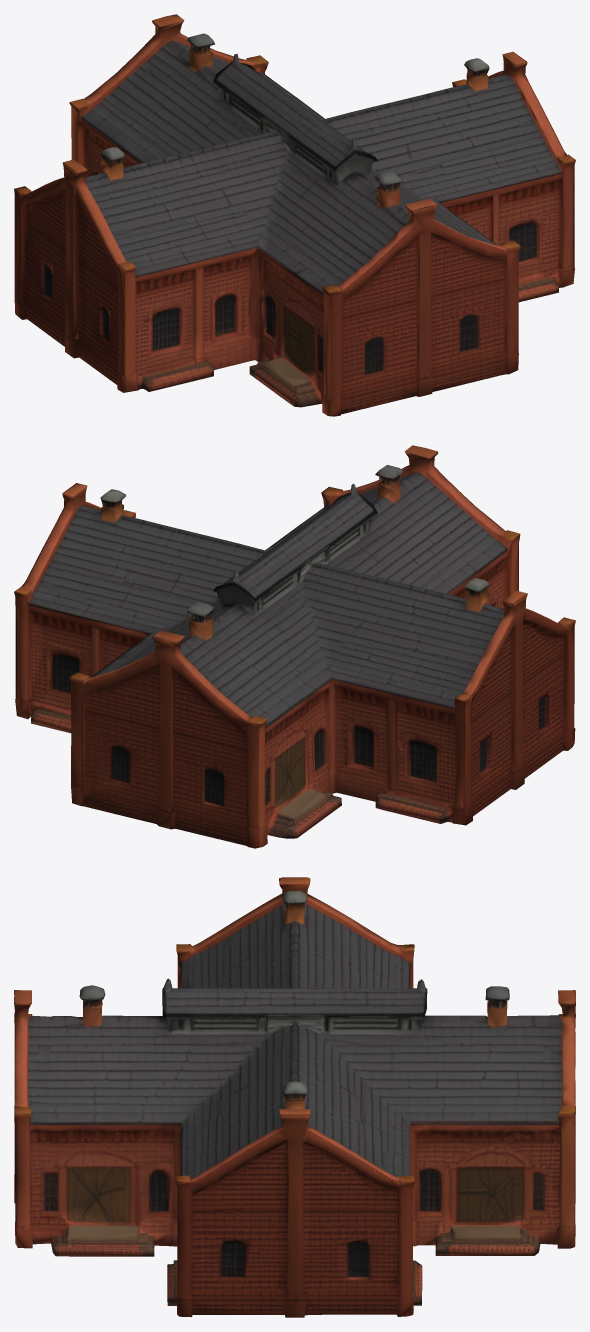
File: warehouse_brick.glb
3 views of the same model, one above another, from view 1: azimuth 30°, elevation 25°; view 2: azimuth 150°, elevation 25°; view 3: azimuth 270°, elevation 25° (orthographic). The views are drawn at different scales.
Parts seen in each view (by area): view 1: world; view 2: world; view 3: world.
Part boxes in pixels (left/top/right/bottom): world: left=14, top=14, right=575, bottom=416; world: left=14, top=445, right=575, bottom=848; world: left=14, top=877, right=575, bottom=1317.
Bounding box in the file's own units: 1 × 0.4349 × 1.
1 material, 1 textured.
